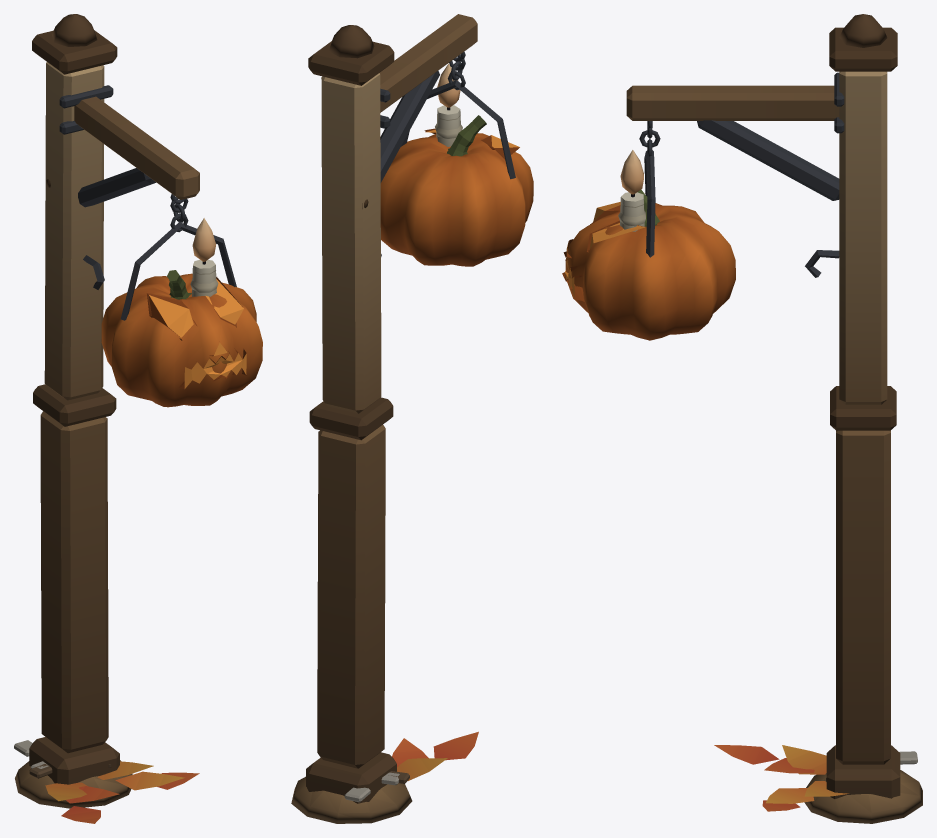
File: lantern_post_01.glb
3 renders of one model, left to right at view 1: azimuth 30°, elevation 25°; view 2: azimuth 150°, elevation 25°; view 3: azimuth 270°, elevation 25°, orthographic.
Parts seen in each view (by area): view 1: lantern_post_01; view 2: lantern_post_01; view 3: lantern_post_01.
Part boxes in pixels (x1,y1,x2,y2): lantern_post_01: [14, 14, 262, 823]; lantern_post_01: [291, 14, 533, 823]; lantern_post_01: [562, 14, 922, 823].
Bounding box in the file's own units: 0.443 × 2.23 × 0.9301.
